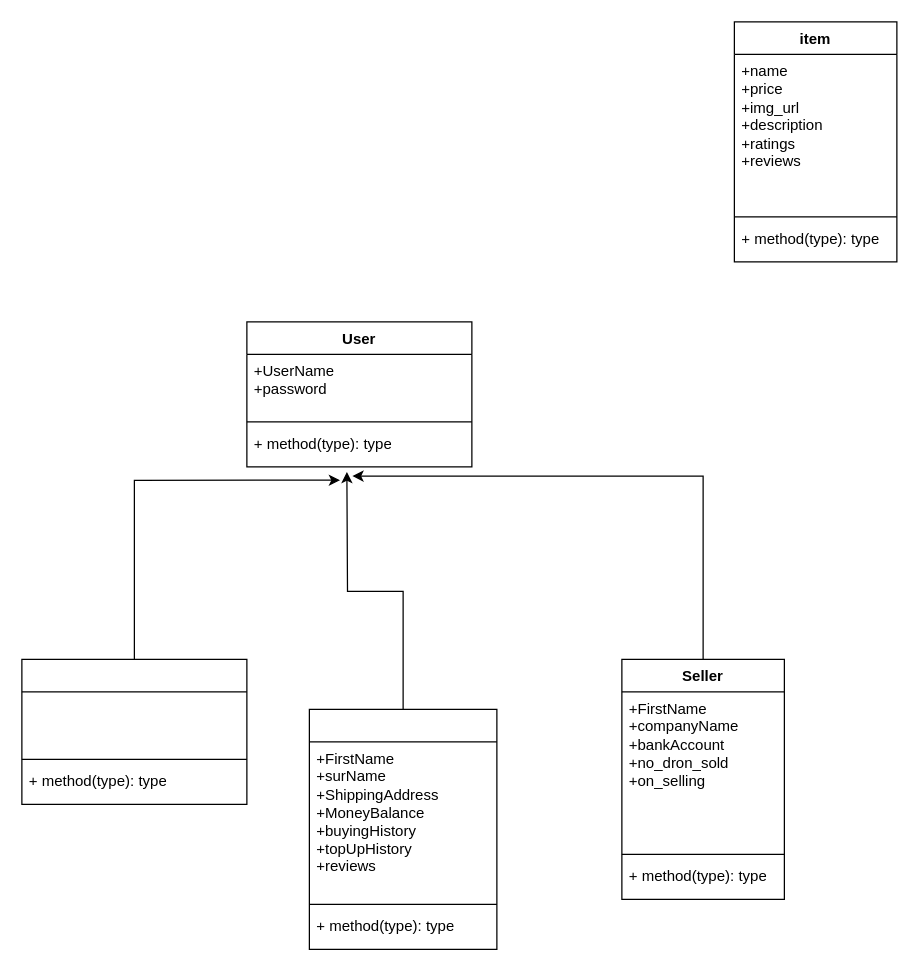
This 919x975 diagram has some shape labels left out. Here are the shapes that lost their labels. From the top down, the box of each, then its label:
(21, 658, 247, 804): Admin
(308, 708, 497, 949): Customers
